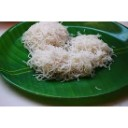idiyappam: (68, 33, 113, 72), (23, 20, 70, 50), (32, 46, 71, 78)
